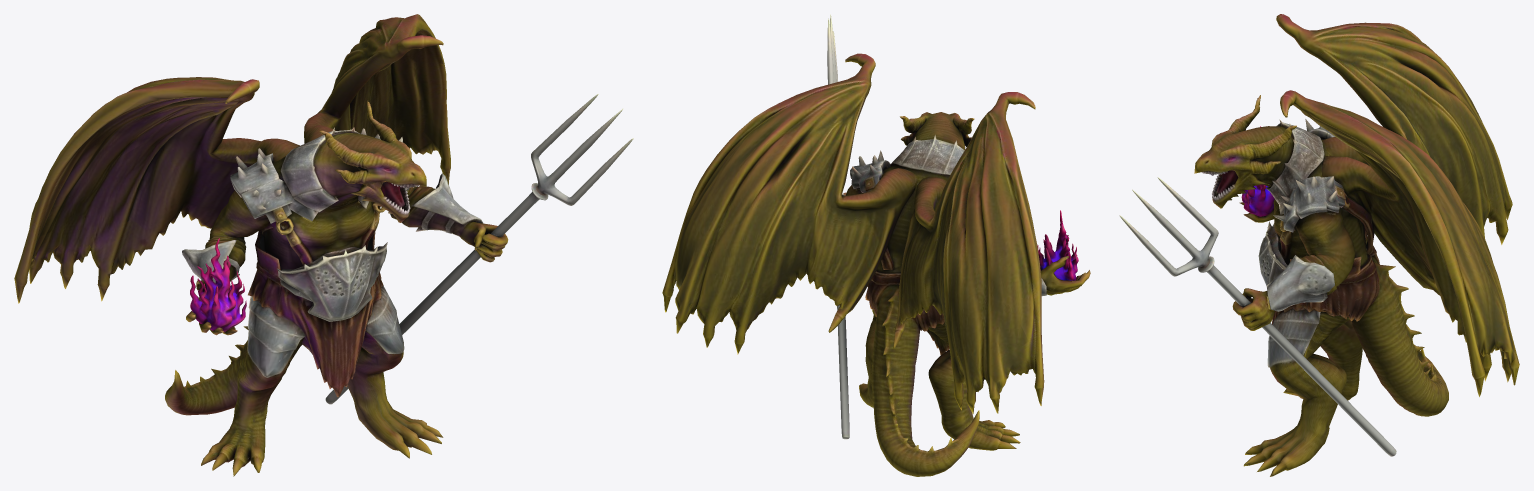
The model's file is MZ4250 - Draconian Mage.glb.
3 views of the same model, side by side, from view 1: azimuth 30°, elevation 25°; view 2: azimuth 150°, elevation 25°; view 3: azimuth 270°, elevation 25° (orthographic). The views are drawn at different scales.
Visible parts, largest first — view 1: body_low.001, wings_low.001, trident_low.001, flame_low.001; view 2: wings_low.001, body_low.001, trident_low.001, flame_low.001; view 3: wings_low.001, body_low.001, trident_low.001, flame_low.001.
Boxes of the visible parts, x1,y1,x2,y2 form: body_low.001: (165,100,508,476); wings_low.001: (14,14,450,303); trident_low.001: (325,94,633,404); flame_low.001: (190,238,246,332); wings_low.001: (662,53,1044,413); body_low.001: (842,112,1090,476); trident_low.001: (827,14,849,439); flame_low.001: (1037,210,1078,280); wings_low.001: (1276,14,1519,396); body_low.001: (1194,95,1448,476); trident_low.001: (1119,177,1396,456); flame_low.001: (1241,126,1274,216).
Size of the model in its own units: 7.35 by 6.42 by 6.15.
Materials: 1 (1 with a texture image).
